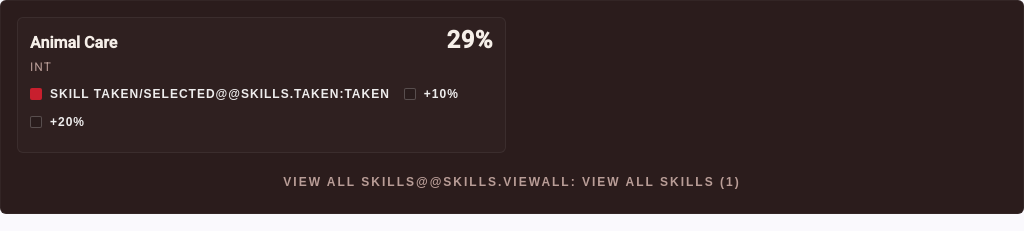
Test case: SkillsComponent › toggles +10 and updates displayed percent
Click the button with class "chip" showing "+10%" at (431, 94), box top-left (404, 87), bottom-right (459, 101)
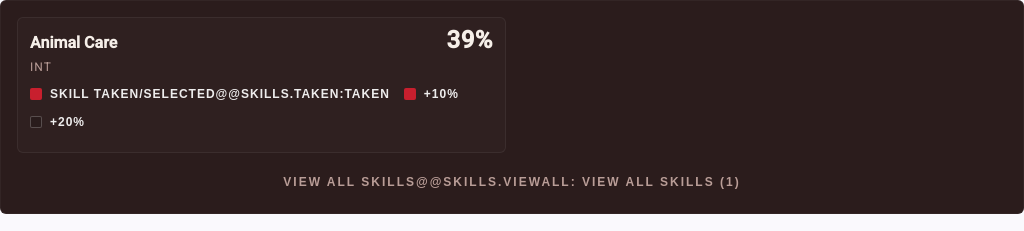
Expected: the text "39%" is shown, top-left (446, 30), bottom-right (493, 50)
